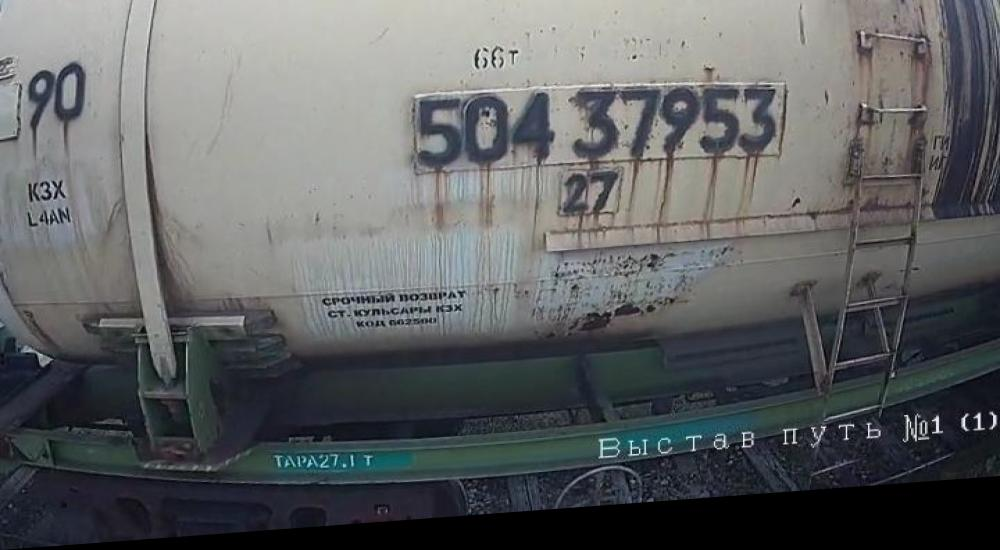Wagon-number: (413, 81, 784, 190)
